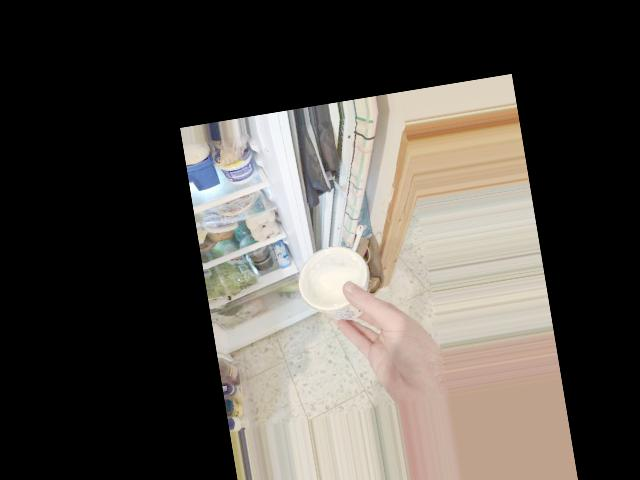cotage: (300, 236, 381, 331)
